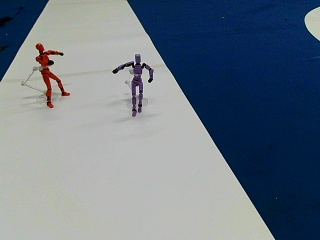pedestrian: (111, 54, 154, 113), (34, 41, 68, 106)
